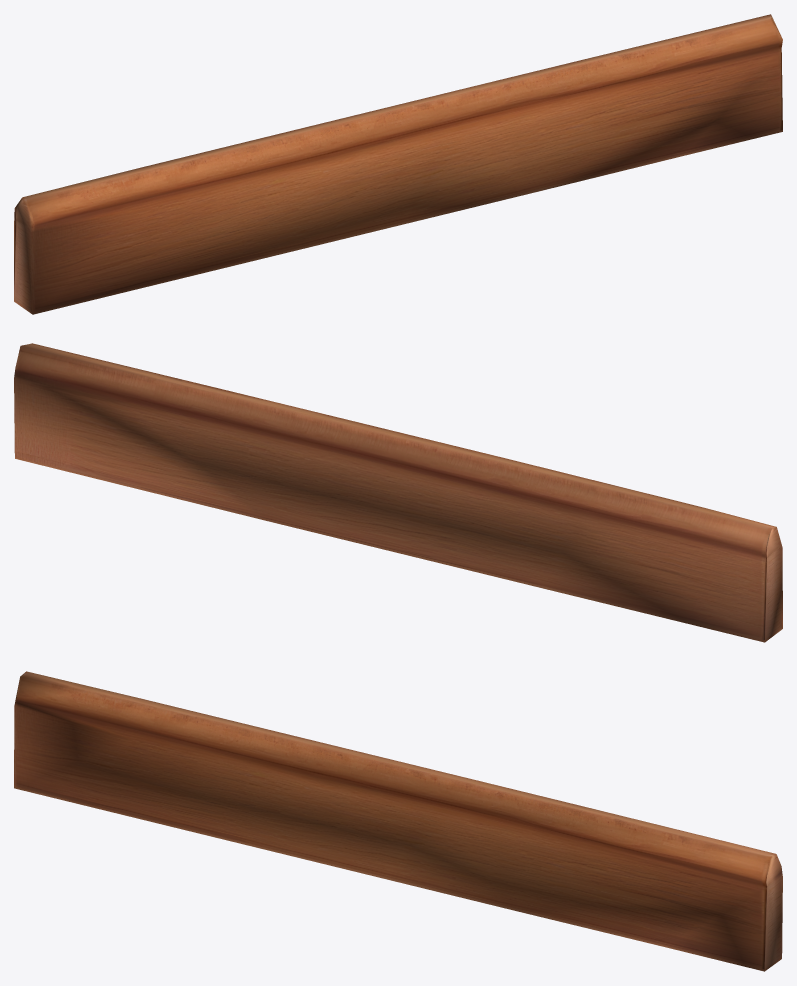
File: süpürgelik.fbx
3 renders of one model, top to bottom at view 1: azimuth 30°, elevation 25°; view 2: azimuth 150°, elevation 25°; view 3: azimuth 330°, elevation 25°, orthographic.
Visible parts, largest first — view 1: Mesh_0; view 2: Mesh_0; view 3: Mesh_0.
Boxes of the visible parts, left/top/right/bottom form: Mesh_0: left=14, top=14, right=782, bottom=314; Mesh_0: left=14, top=343, right=782, bottom=642; Mesh_0: left=14, top=671, right=782, bottom=971.
Size of the model in its own units: 192 by 26.72 by 8.29.
Materials: 1 (1 with a texture image).
